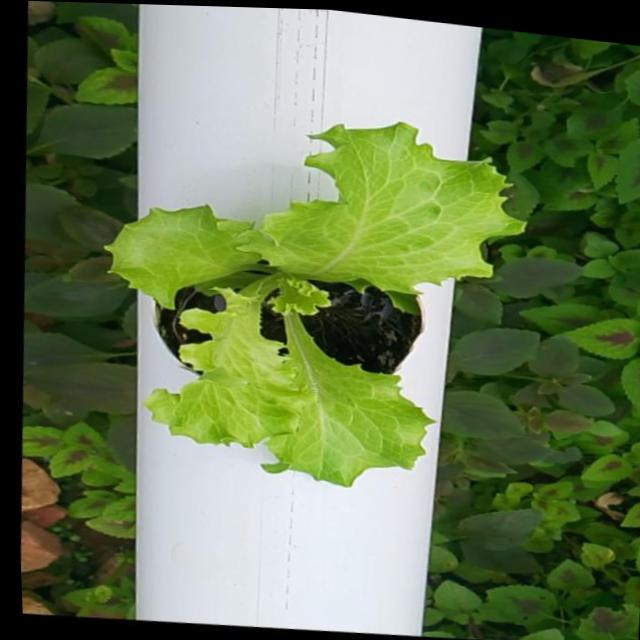Baby: (104, 123, 523, 488)
